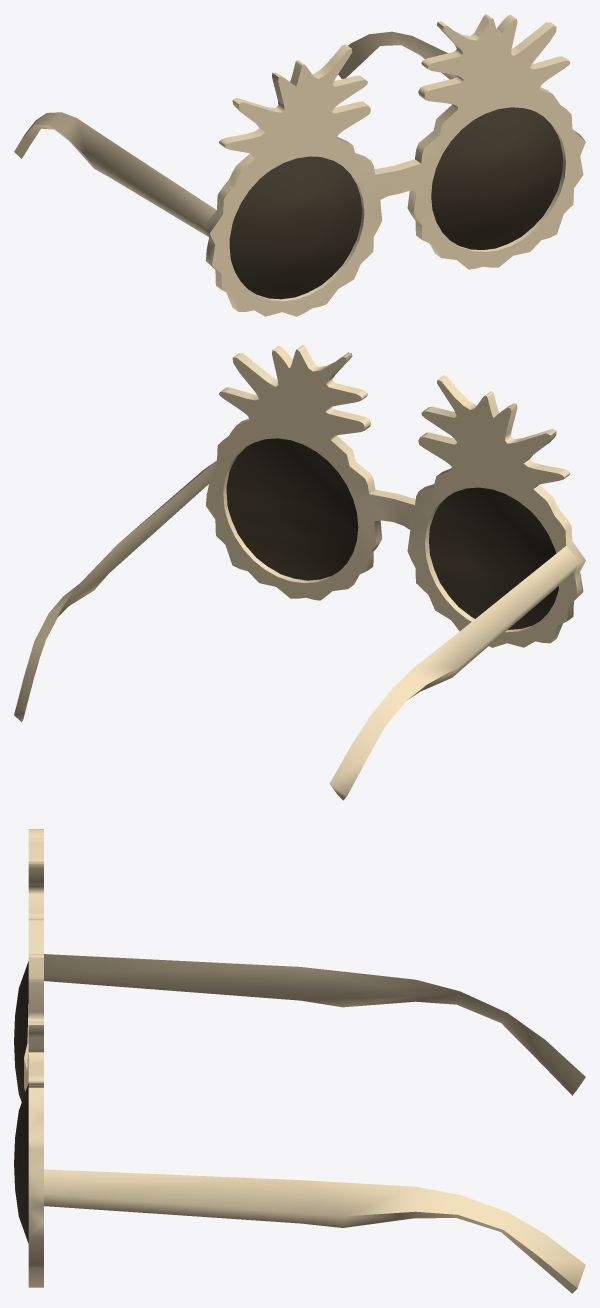
The model's file is pineapple_glasses.glb.
3 renders of one model, top to bottom at view 1: azimuth 30°, elevation 25°; view 2: azimuth 150°, elevation 25°; view 3: azimuth 270°, elevation 25°, orthographic. The views are drawn at different scales.
Visible parts, largest first — view 1: Circle.004; view 2: Circle.004; view 3: Circle.004.
Boxes of the visible parts, x1,y1,x2,y2 form: Circle.004: [14, 14, 585, 316]; Circle.004: [14, 345, 585, 800]; Circle.004: [14, 829, 585, 1293].
Bounding box in the file's own units: 0.1552 × 0.1003 × 0.1617.
1 material, 1 textured.
